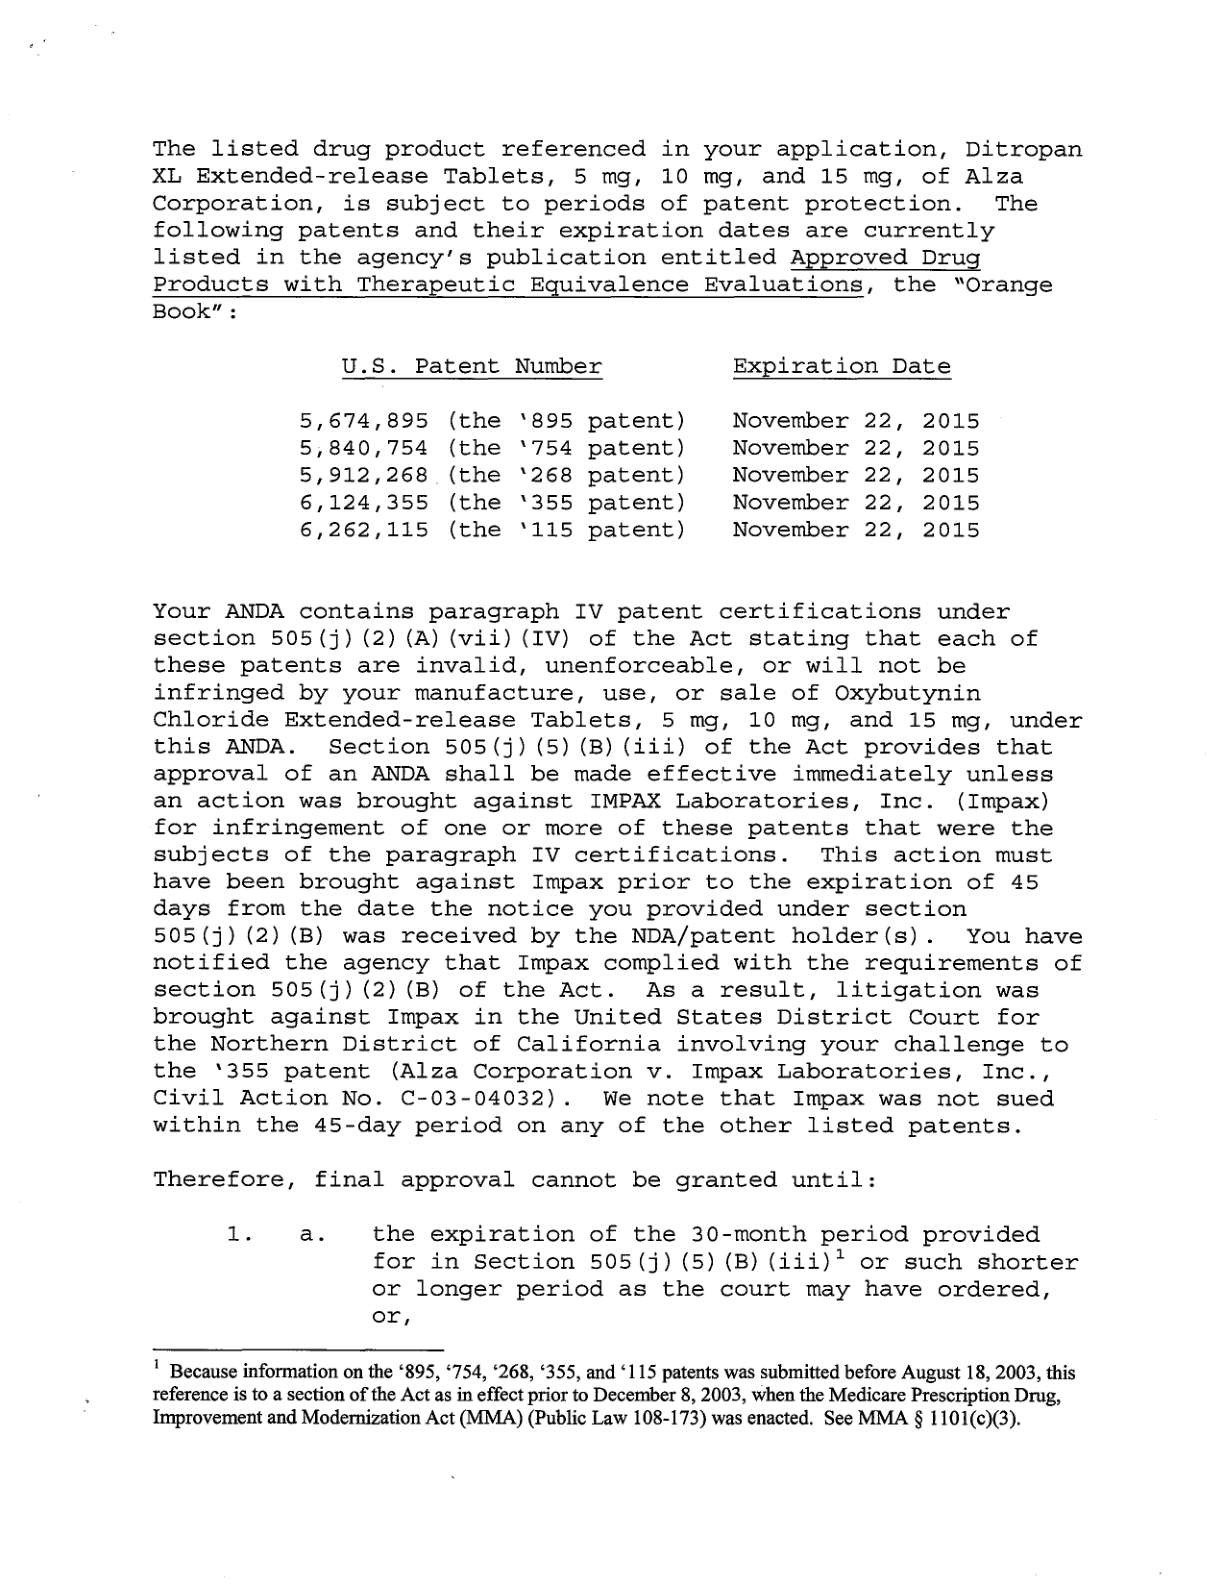nolines: (294, 350, 985, 545)
